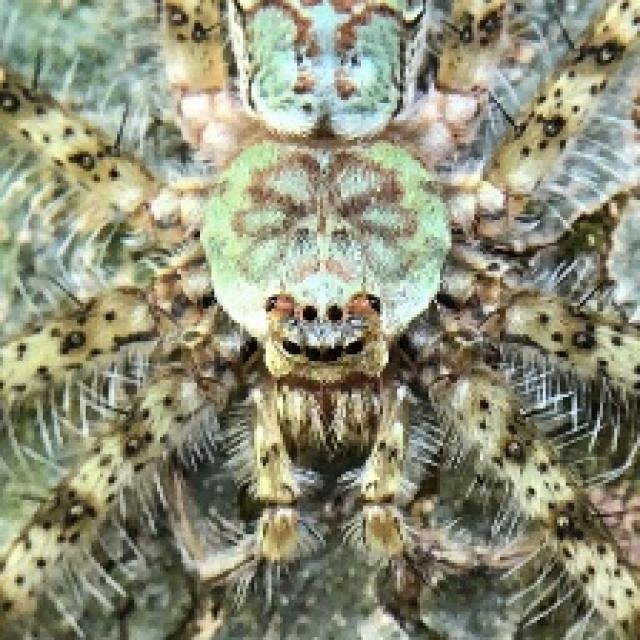Venomous spider: (25, 18, 607, 620)
